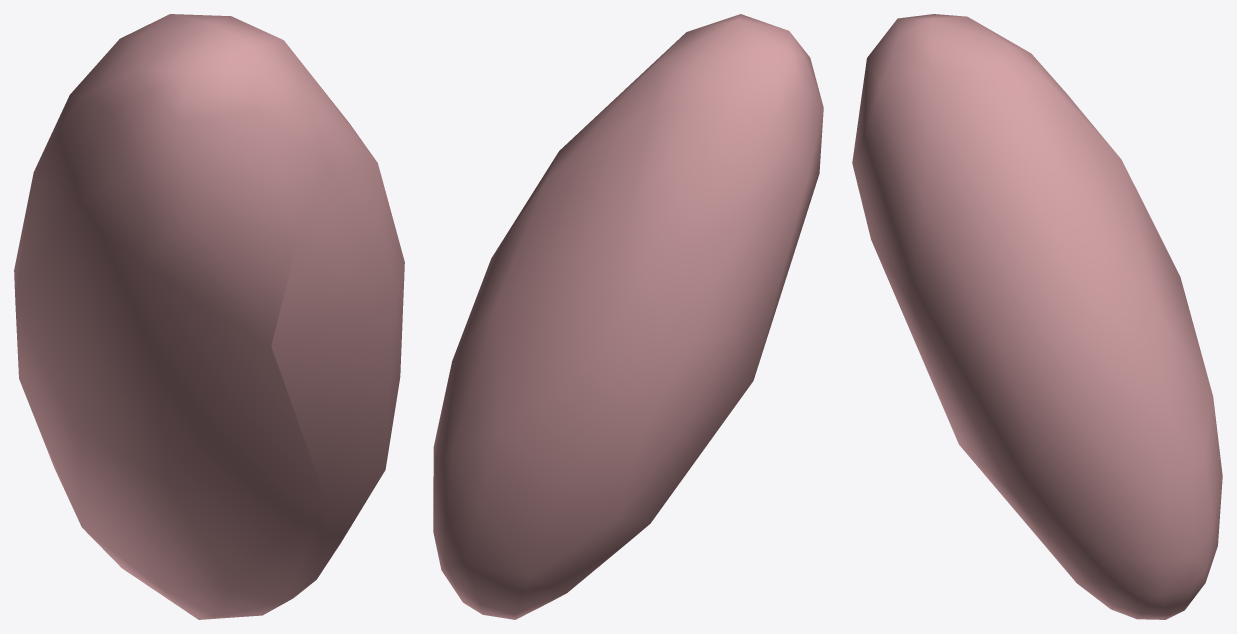
File: fma55117_fj2795.glb
3 views of the same model, side by side, from view 1: azimuth 30°, elevation 25°; view 2: azimuth 150°, elevation 25°; view 3: azimuth 270°, elevation 25° (orthographic). The views are drawn at different scales.
Visible parts, largest first — view 1: FMA55117_FJ2795; view 2: FMA55117_FJ2795; view 3: FMA55117_FJ2795.
Part boxes in pixels (x1,y1,x2,y2): FMA55117_FJ2795: [14, 14, 404, 619]; FMA55117_FJ2795: [433, 14, 823, 619]; FMA55117_FJ2795: [852, 14, 1222, 619].
Size of the model in its own units: 0.00192 by 0.00349 by 0.00219.
